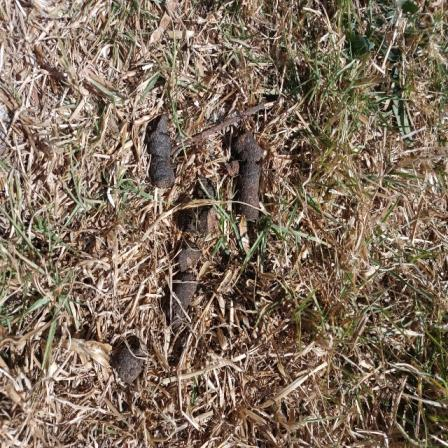dog-poop: (172, 176, 212, 332), (231, 129, 277, 210), (150, 114, 176, 188), (112, 336, 148, 383)
